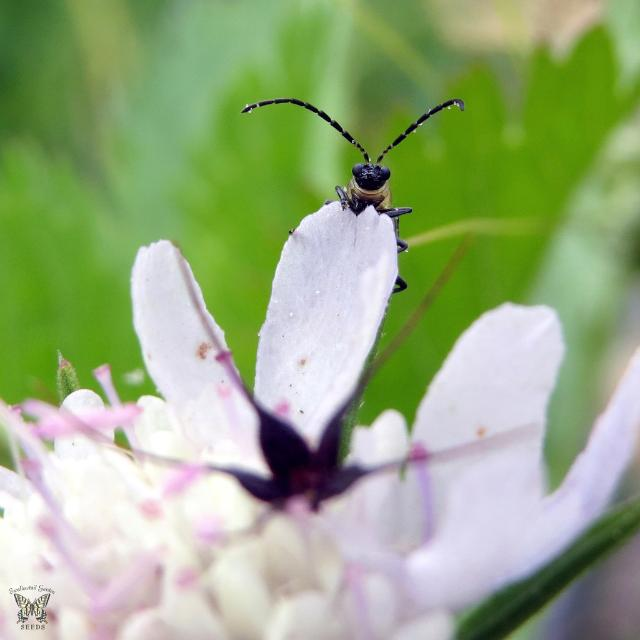Flower: (41, 100, 570, 632)
